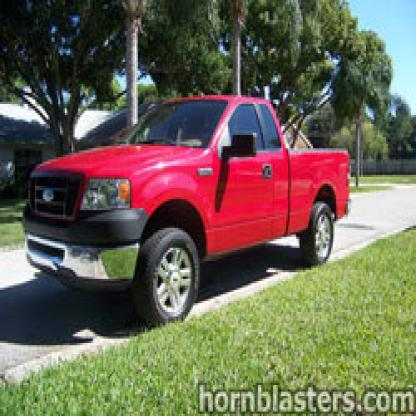Vehicle: (24, 100, 354, 330)
